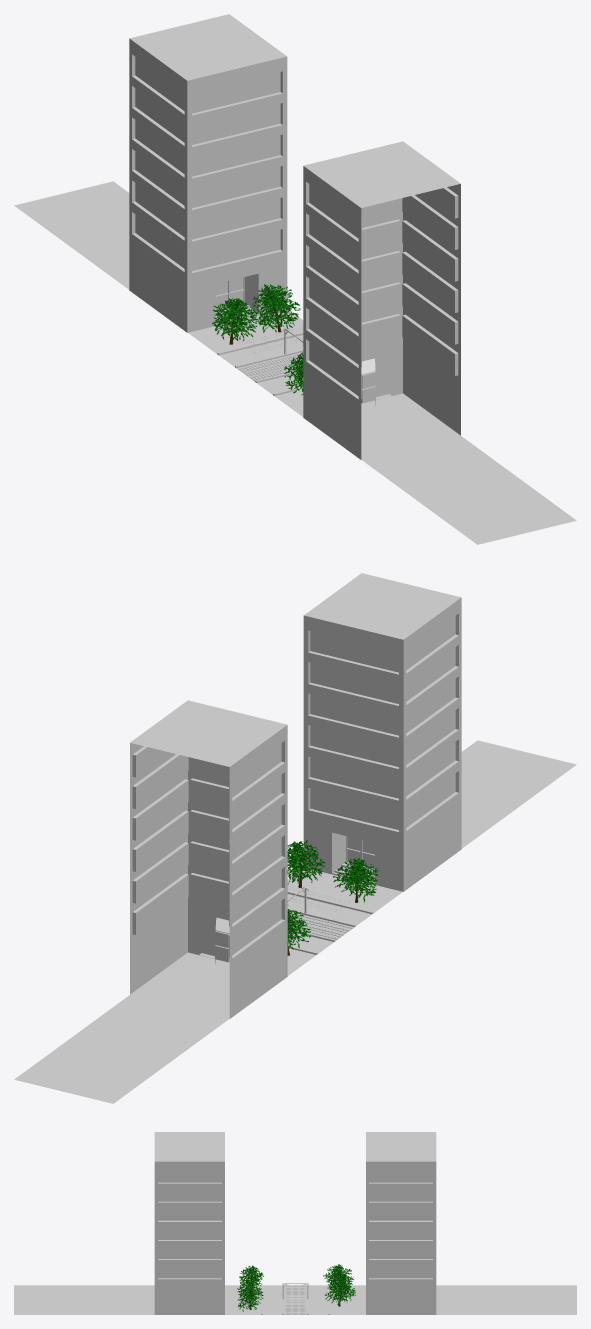
File: City_2.fbx
3 renders of one model, top to bottom at view 1: azimuth 30°, elevation 25°; view 2: azimuth 150°, elevation 25°; view 3: azimuth 270°, elevation 25°, orthographic. The views are drawn at different scales.
Visible parts, largest first — view 1: Box002, Box001, Plane001, Object015, Object012, Object002, Foliage004, Object003, Foliage003, Object001; view 2: Box001, Box002, Plane001, Object012, Object015, Object002, Object003, Foliage002, Foliage001, Object001; view 3: Plane001, Box001, Box002, Object012, Object015, Object002, Object003, Foliage004, Foliage002, Foliage001, Foliage003, Object001.
Boxes of the visible parts, box(x1,y1,x2,y2) form: Box002: box(129, 14, 287, 332); Box001: box(303, 141, 460, 459); Plane001: box(14, 181, 576, 544); Object015: box(135, 57, 280, 270); Object012: box(309, 184, 454, 395); Object002: box(219, 335, 303, 394); Foliage004: box(249, 284, 300, 332); Object003: box(203, 320, 303, 406); Foliage003: box(212, 298, 257, 344); Object001: box(217, 327, 303, 395); Box001: box(303, 573, 461, 891); Box002: box(130, 700, 287, 1018); Plane001: box(14, 740, 576, 1103); Object012: box(310, 616, 455, 829); Object015: box(136, 743, 281, 954); Object002: box(287, 894, 371, 953); Object003: box(287, 879, 387, 965); Foliage002: box(287, 840, 325, 887); Foliage001: box(333, 858, 379, 902); Object001: box(287, 886, 373, 954); Plane001: box(14, 1285, 576, 1314); Box001: box(154, 1132, 224, 1314); Box002: box(366, 1132, 436, 1314); Object012: box(158, 1170, 221, 1278); Object015: box(369, 1170, 432, 1278); Object002: box(262, 1285, 328, 1314); Object003: box(243, 1285, 347, 1314); Foliage004: box(324, 1276, 355, 1306); Foliage002: box(237, 1283, 263, 1311); Foliage001: box(239, 1265, 263, 1292); Foliage003: box(323, 1264, 353, 1290); Object001: box(261, 1283, 329, 1314).
Size of the model in its own units: 1023 by 2400 by 8000.
